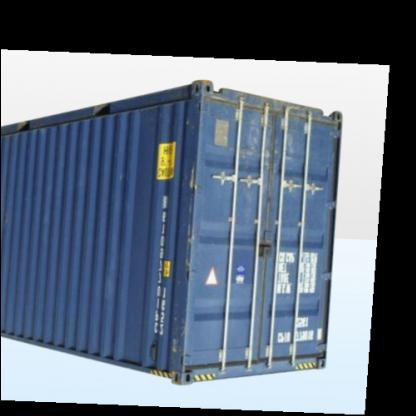Damage: (243, 122, 297, 179), (183, 162, 205, 282), (162, 306, 197, 363), (180, 90, 216, 130)
